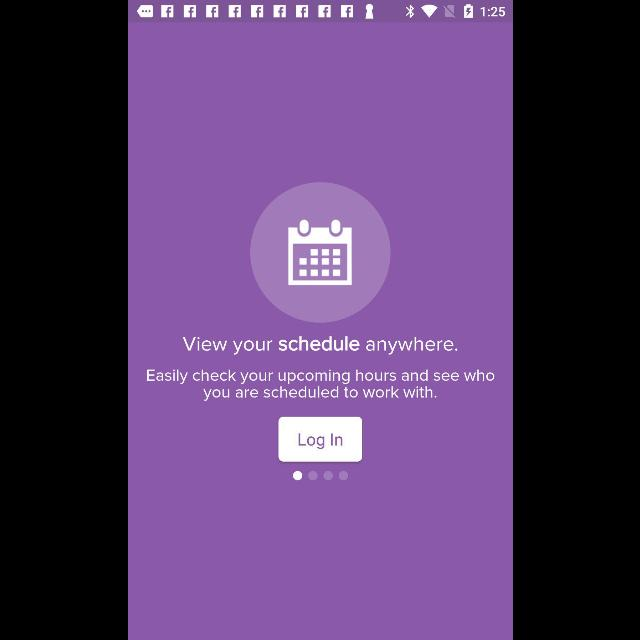image: (250, 182, 390, 324)
pageindicator: (292, 471, 348, 482)
text: (146, 368, 494, 402), (182, 336, 456, 356)
textbutton: (278, 416, 362, 462)
uppertaskbar: (128, 1, 512, 23)
